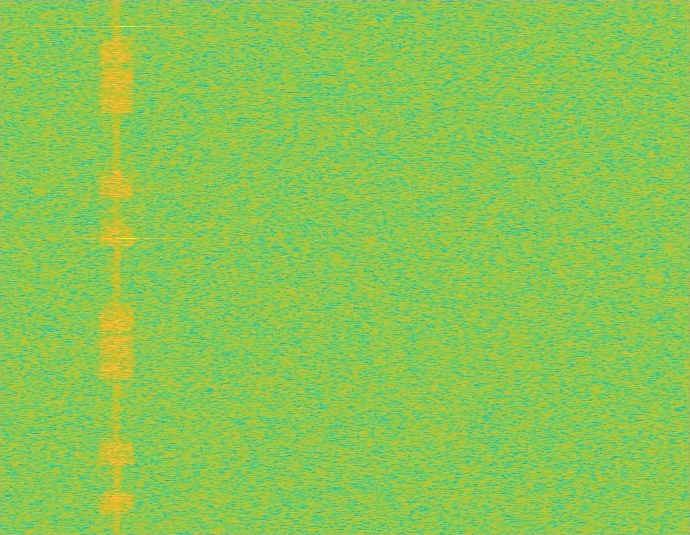DSSS: (113, 0, 121, 534)
LTE: (99, 0, 134, 534)
Radar: (120, 0, 134, 534)
